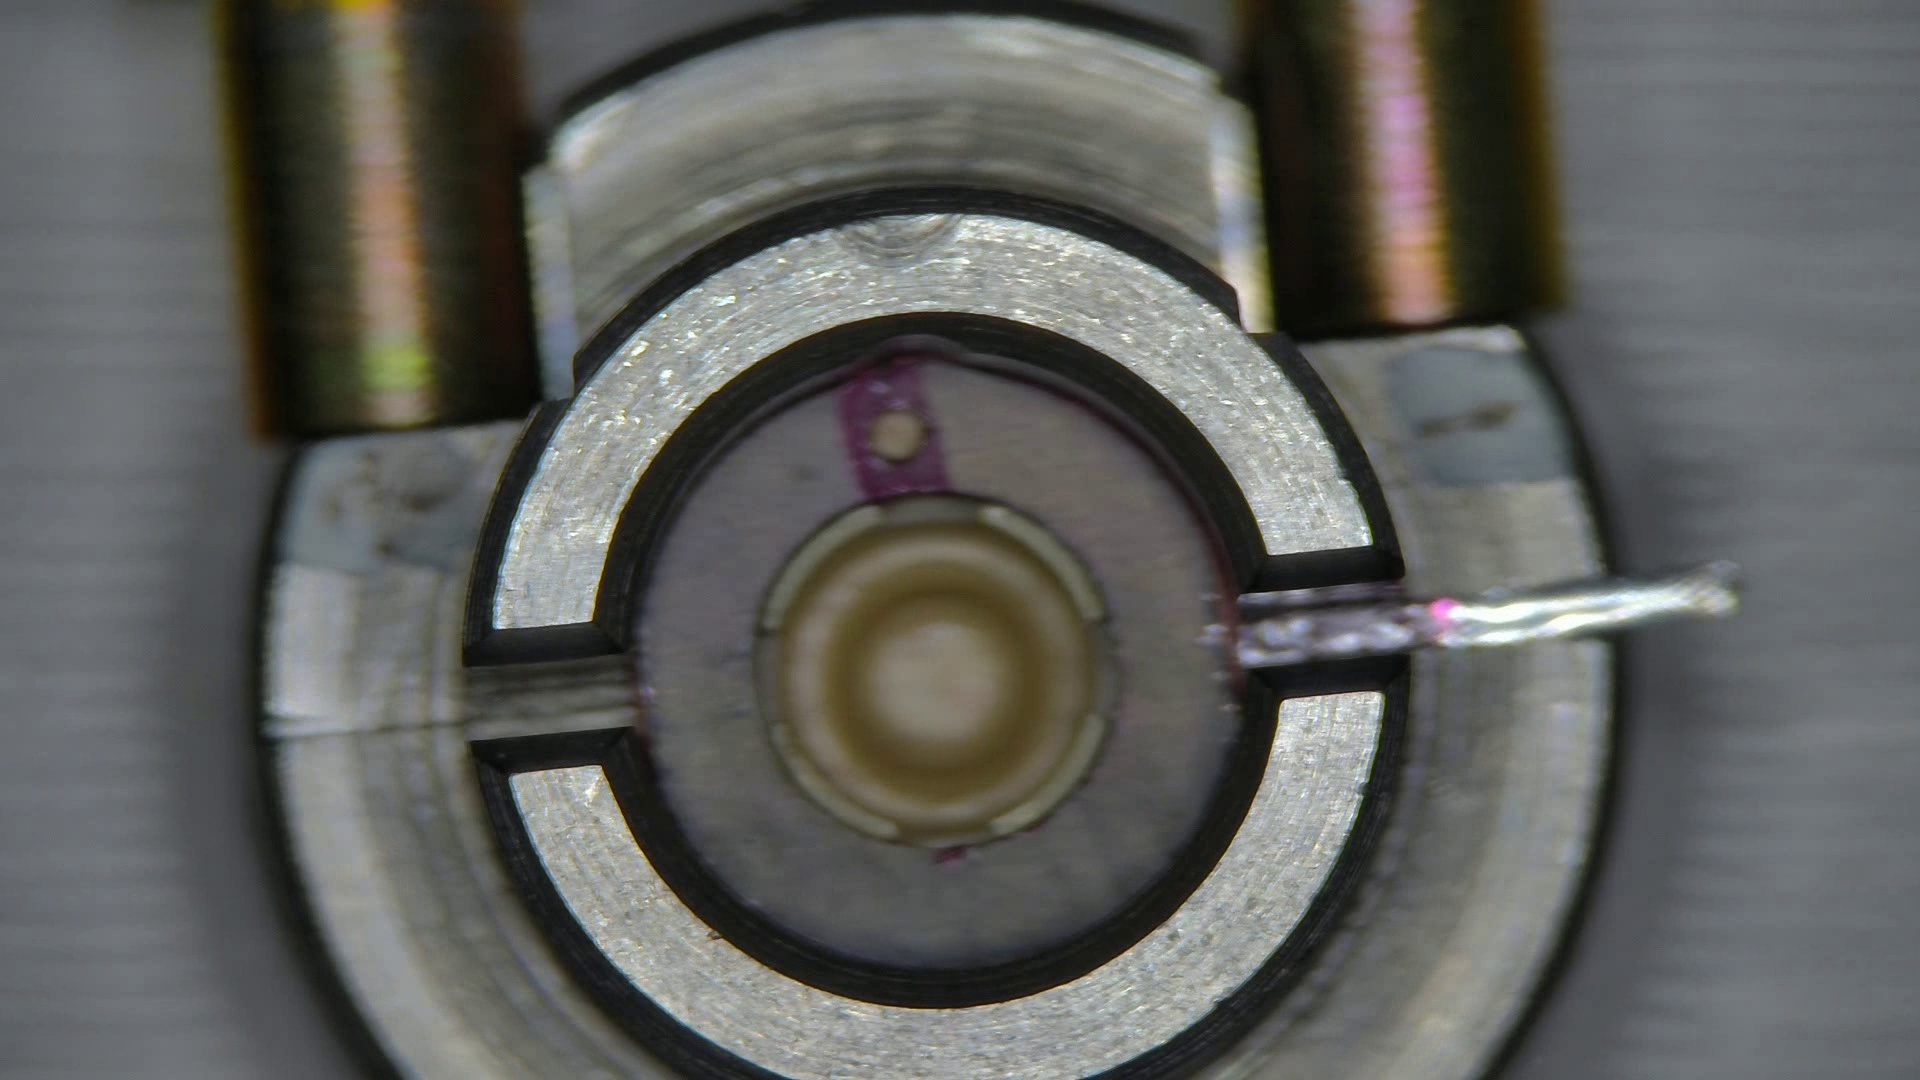YellowOring: (636, 359, 1232, 971)
